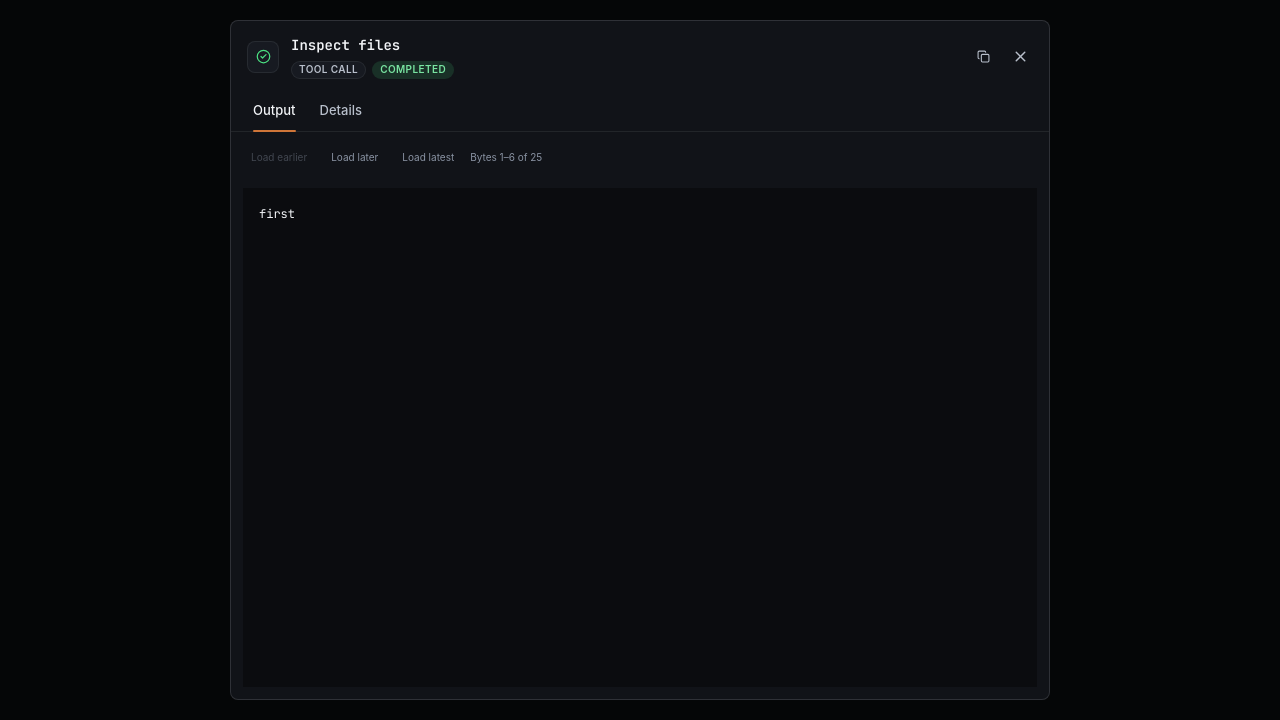
Test: production tool details › pages real output, keeps metadata in Details, and copies only loaded text including from Details
This screenshot has width=1280, height=720.
Expected: the text "tool-1" is not shown
Expected: the number of tabs is 2, [243,91,306,131]; [310,91,372,131]
Click the button "Load latest" at (428, 158), box [394,144,462,172]
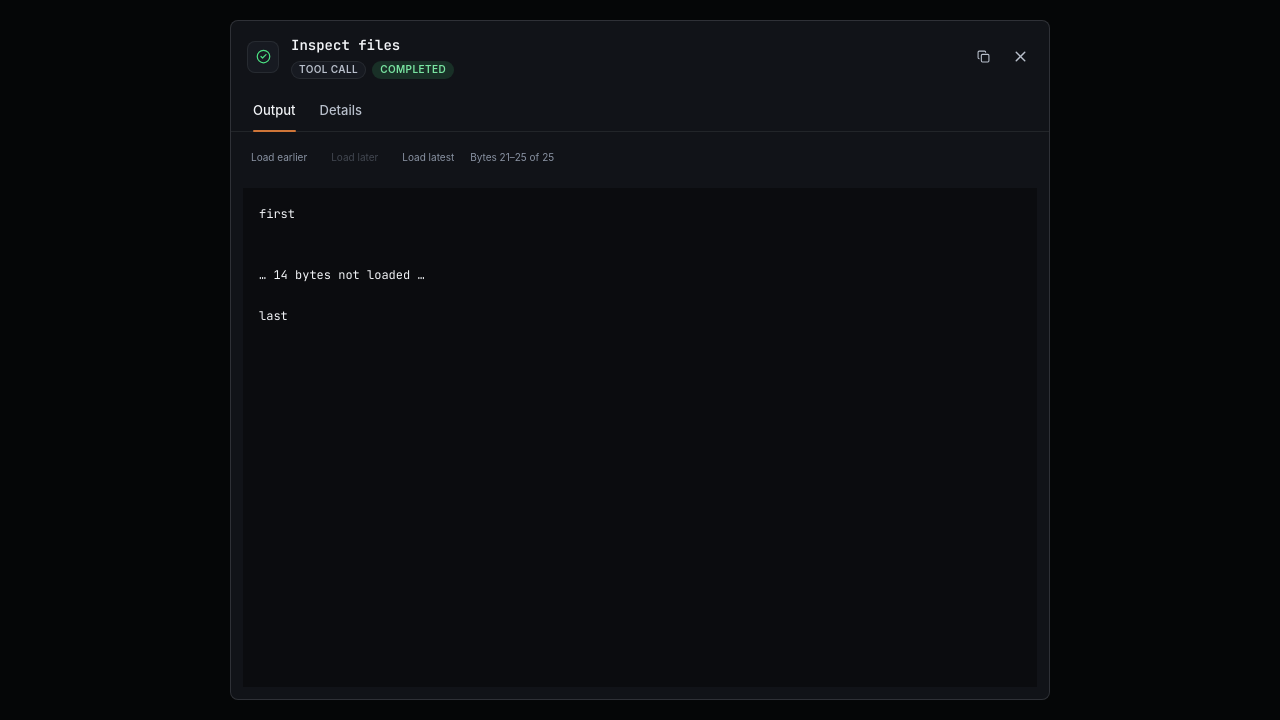
Expected: the text "first … 14 bytes not loaded … last" is shown, [243,188,1037,687]
Click the tab "Details" at (341, 111), box [310,91,372,131]
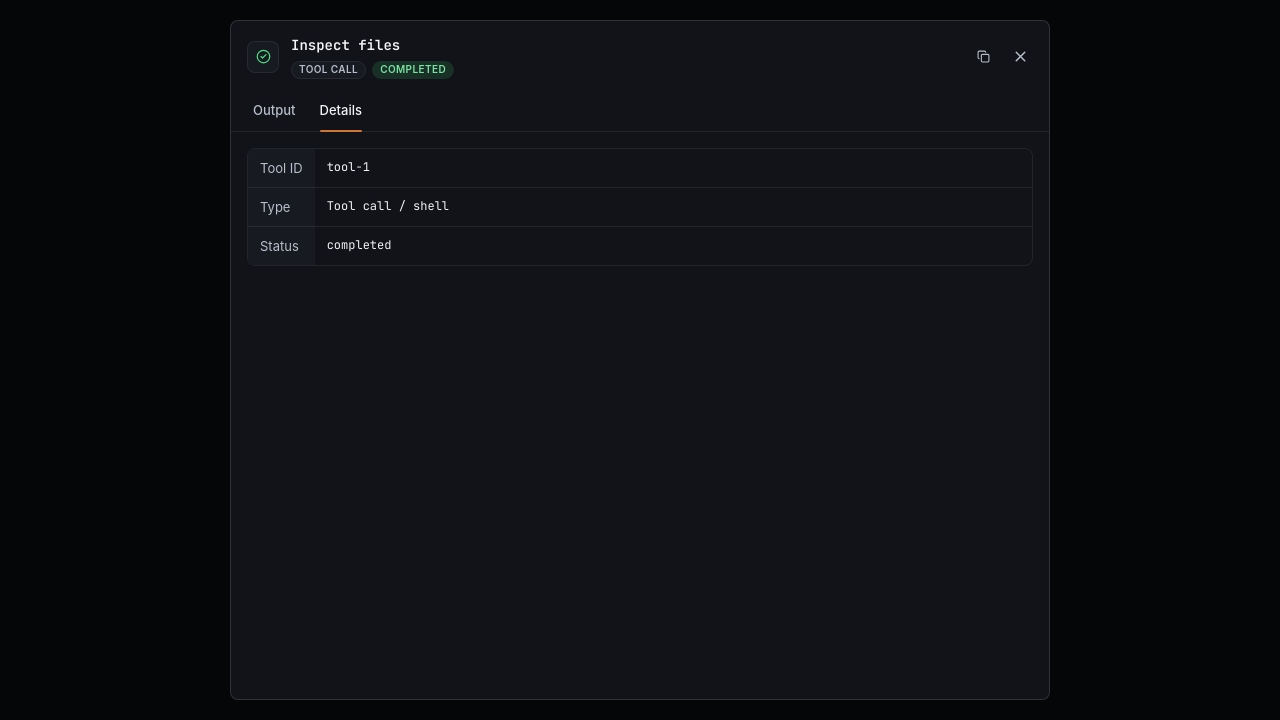
Expected: the panel shows "tool-1", [327,159,370,175]
Click the button named "Copy loaded output" at (983, 57), box [971,45,995,69]
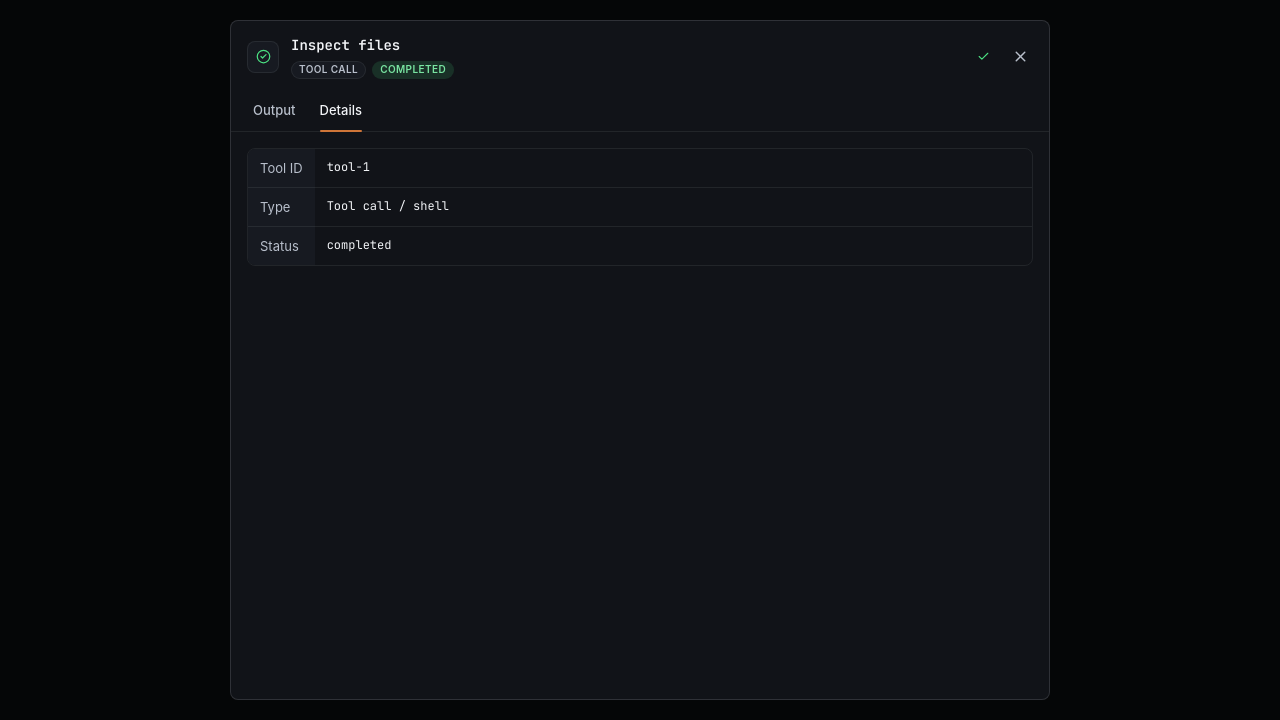
Click the tab "Output" at (274, 111), box [243,91,306,131]
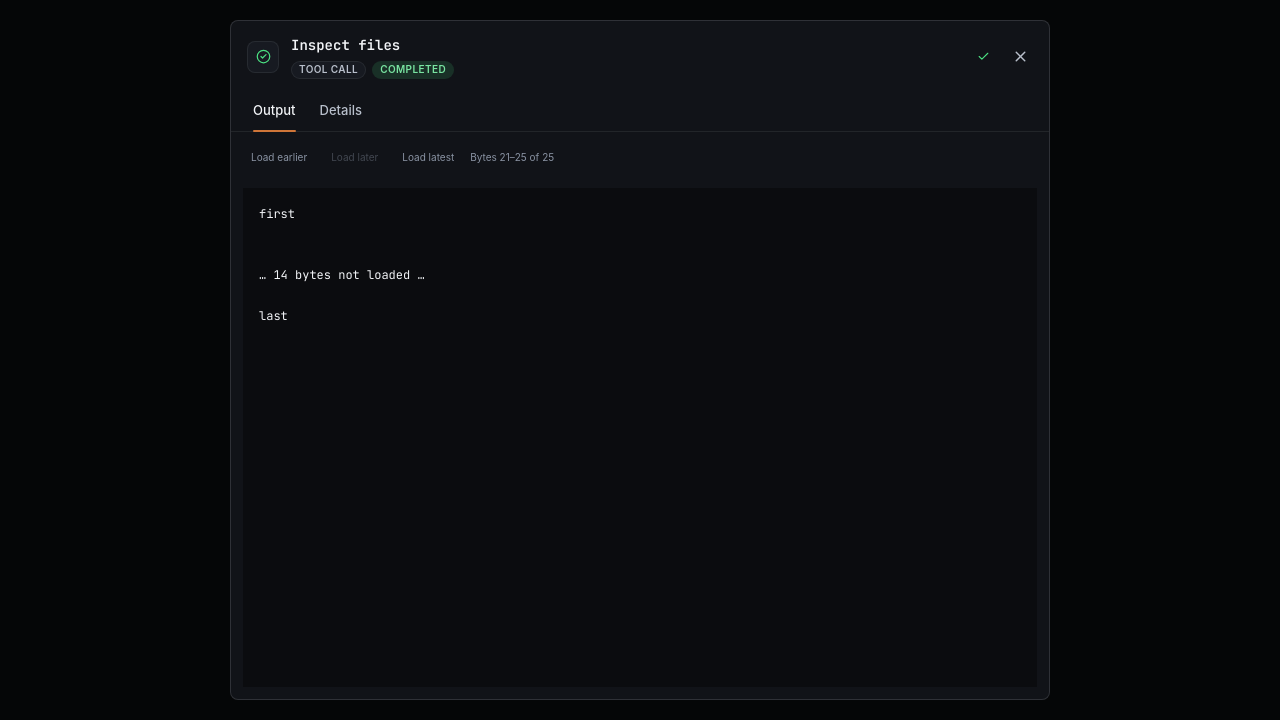
Expected: the text "first … 14 bytes not loaded … last" is shown, [243,188,1037,687]
